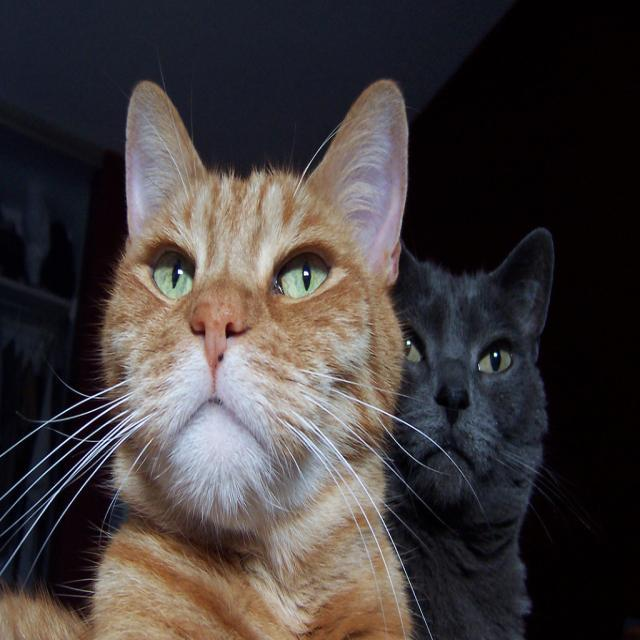cat: (110, 76, 410, 640), (398, 233, 558, 640)
